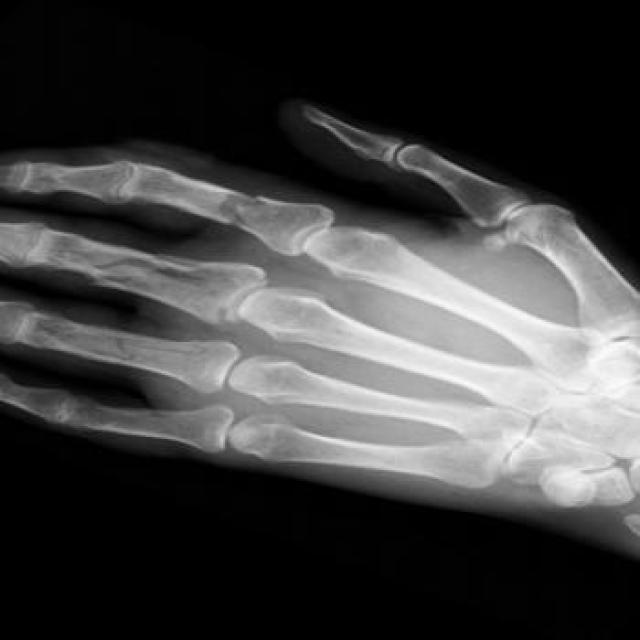Fracture: (90, 245, 208, 297), (104, 327, 211, 372), (201, 181, 284, 230)
